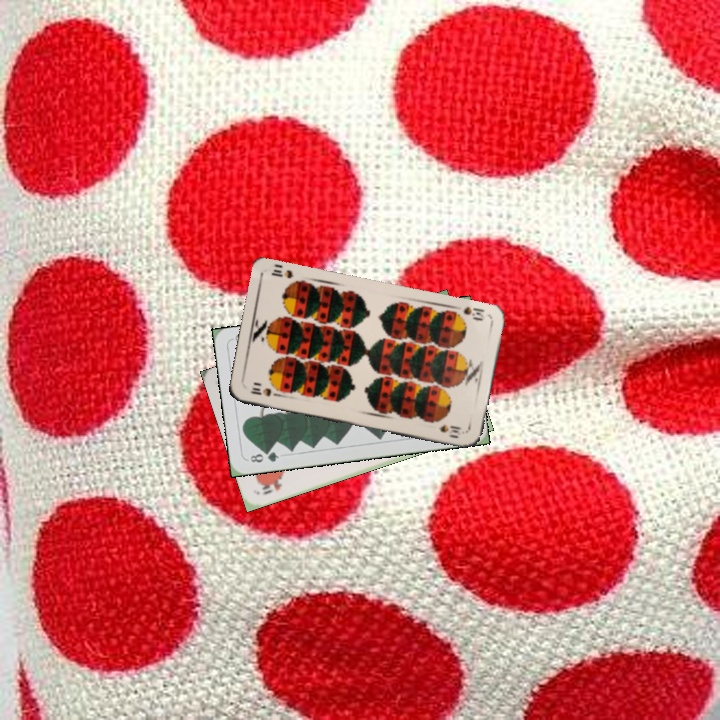G8: (246, 447, 281, 465)
HO: (257, 475, 286, 497)
S10: (459, 302, 487, 323), (246, 383, 282, 399)
